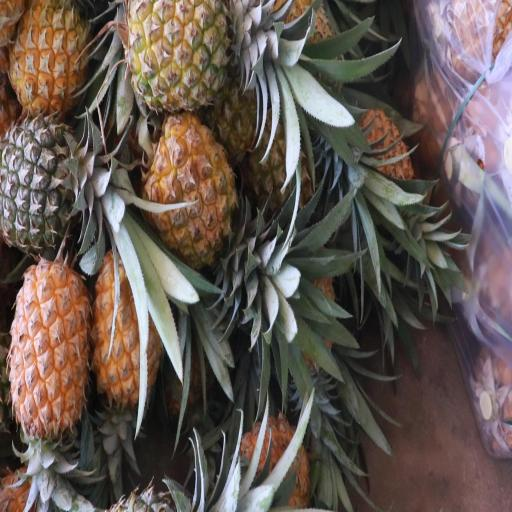Pineapple - v8 v1: (143, 112, 260, 252), (18, 245, 90, 459), (127, 0, 269, 108), (90, 251, 161, 415), (6, 0, 91, 103)
